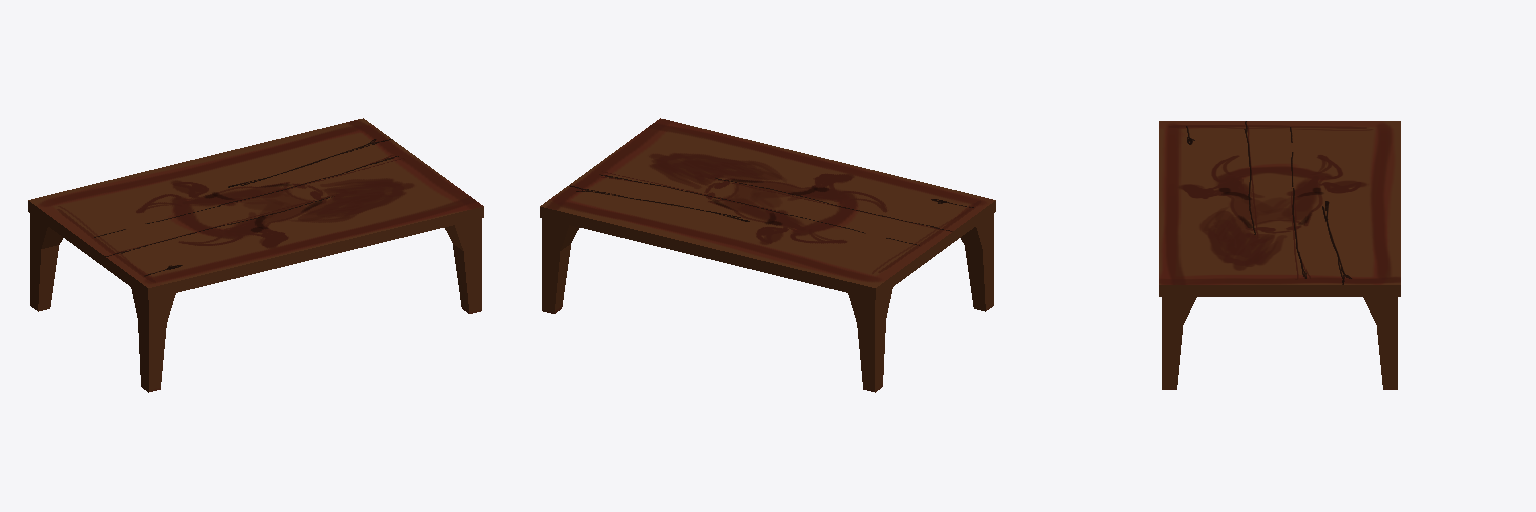
3 renders of one model, left to right at view 1: azimuth 30°, elevation 25°; view 2: azimuth 150°, elevation 25°; view 3: azimuth 270°, elevation 25°, orthographic.
Parts seen in each view (by area): view 1: tutorial_tisch_Plane; view 2: tutorial_tisch_Plane; view 3: tutorial_tisch_Plane.
Boxes of the visible parts, x1,y1,x2,y2 form: tutorial_tisch_Plane: [28, 118, 483, 392]; tutorial_tisch_Plane: [540, 118, 995, 392]; tutorial_tisch_Plane: [1159, 121, 1400, 389].
Size of the model in its own units: 2 by 0.6 by 1.24.
1 materials, 1 textured.